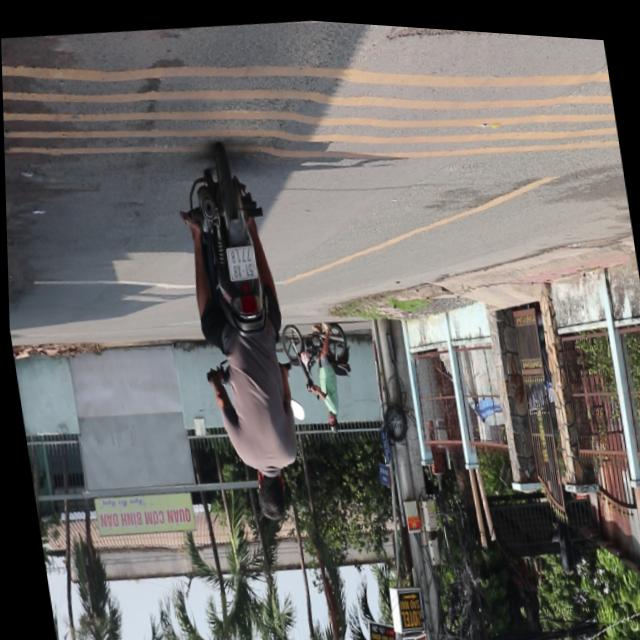licenseplate: (168, 143, 316, 528)
motorcyclist: (249, 463, 288, 519)
nohelmet: (224, 239, 256, 278)
